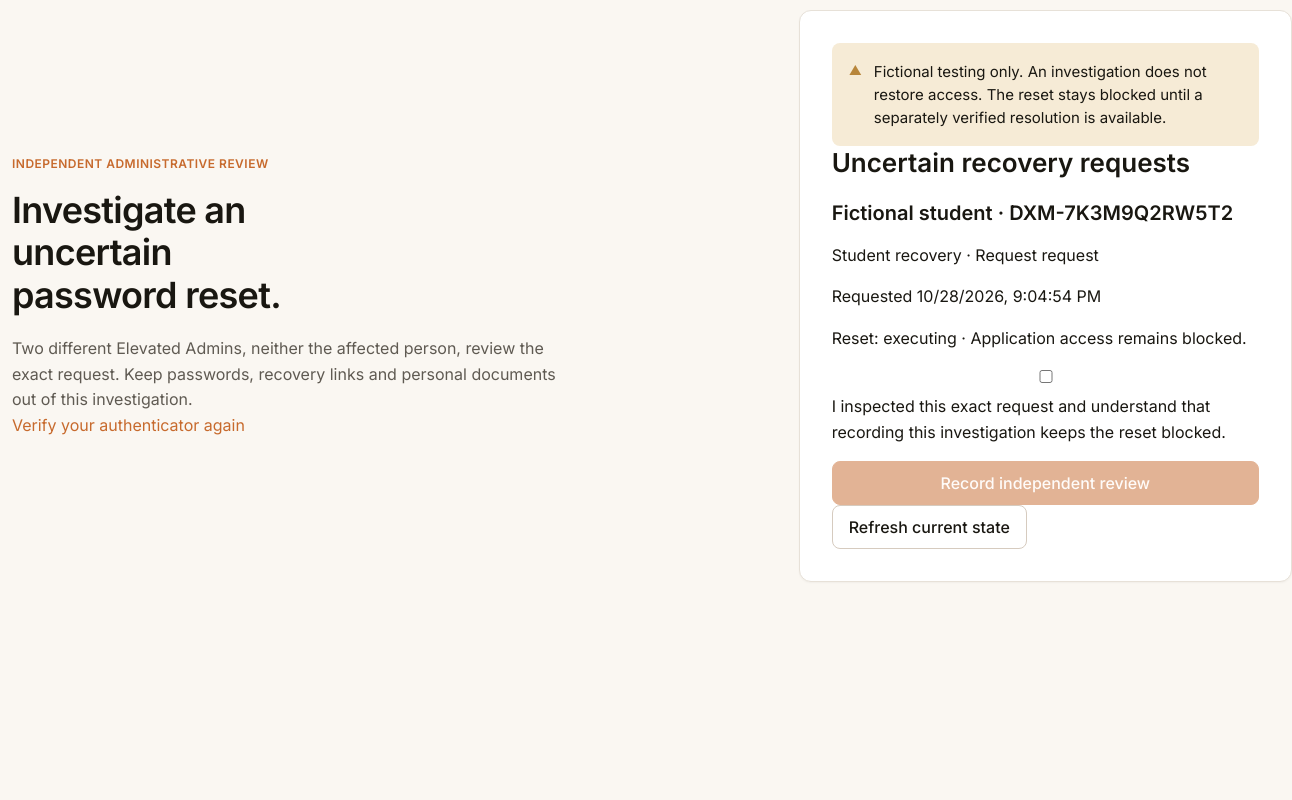
uncertain recovery investigation › records independent review without claiming access was restored
Click the checkbox: click(1046, 377) x1=836 y1=370 x2=1256 y2=383
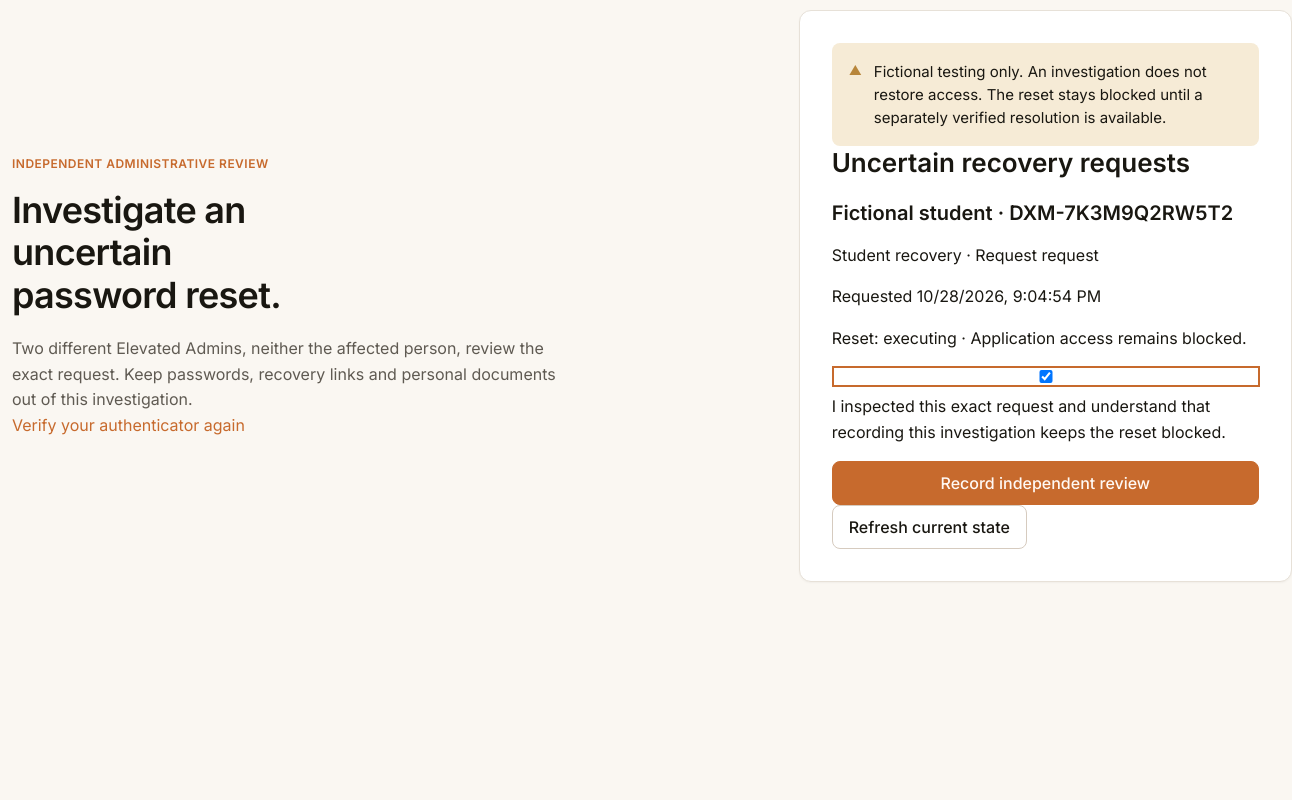
Click the button "Record independent review": click(1045, 484) x1=832 y1=462 x2=1259 y2=506
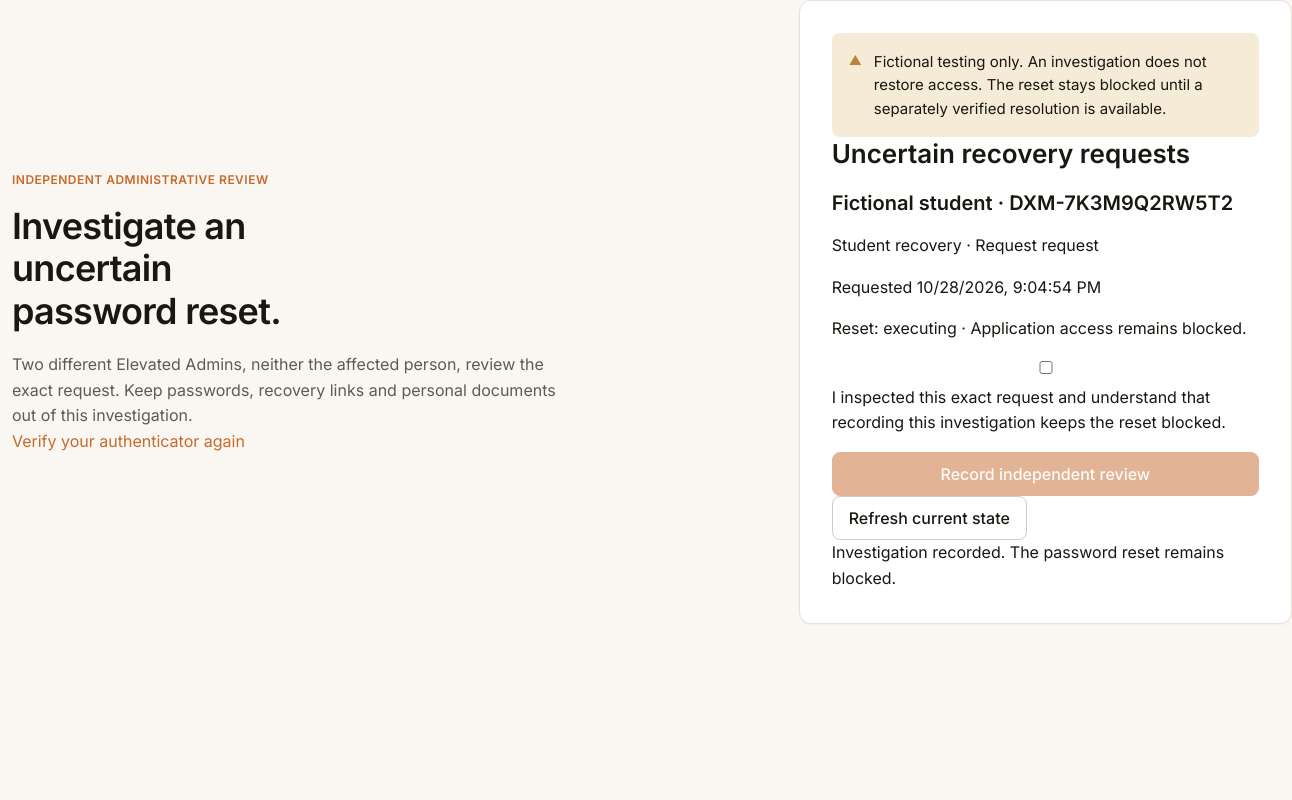
Now the text "Investigation recorded. The password reset remains blocked." is shown, box x1=832 y1=540 x2=1259 y2=591
